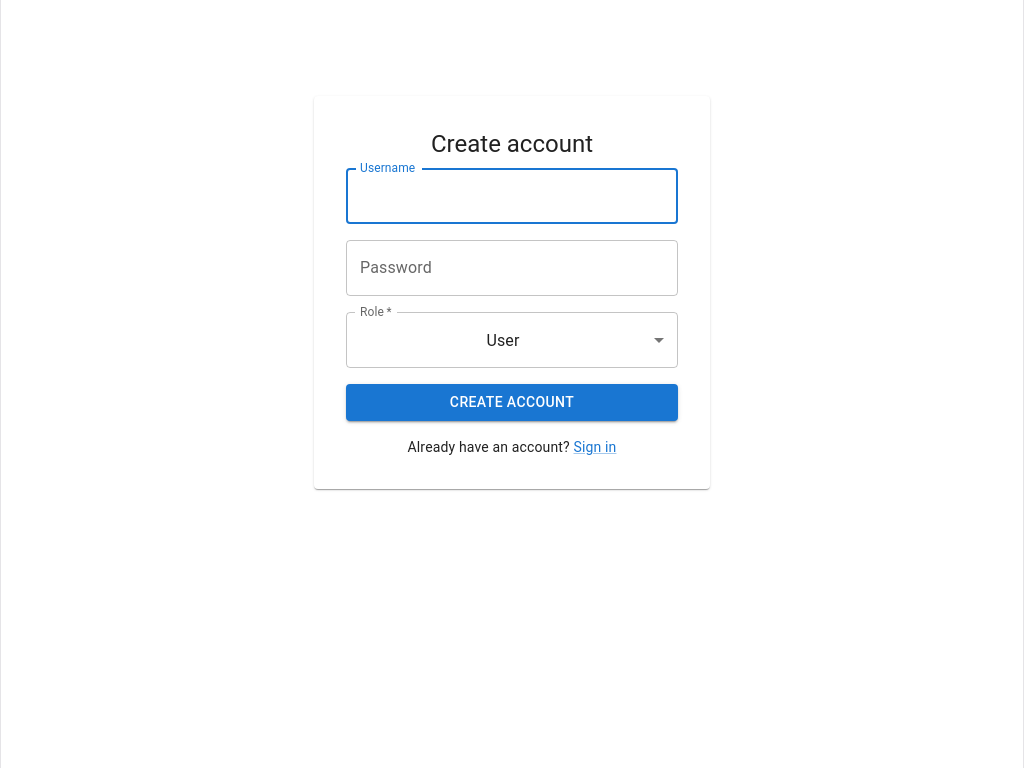
Test: RegisterPage › shows validation errors when submitting empty fields
The width and height of the screenshot is (1024, 768).
Click the button "Create account".
click(512, 403)  # box [346, 384, 678, 421]
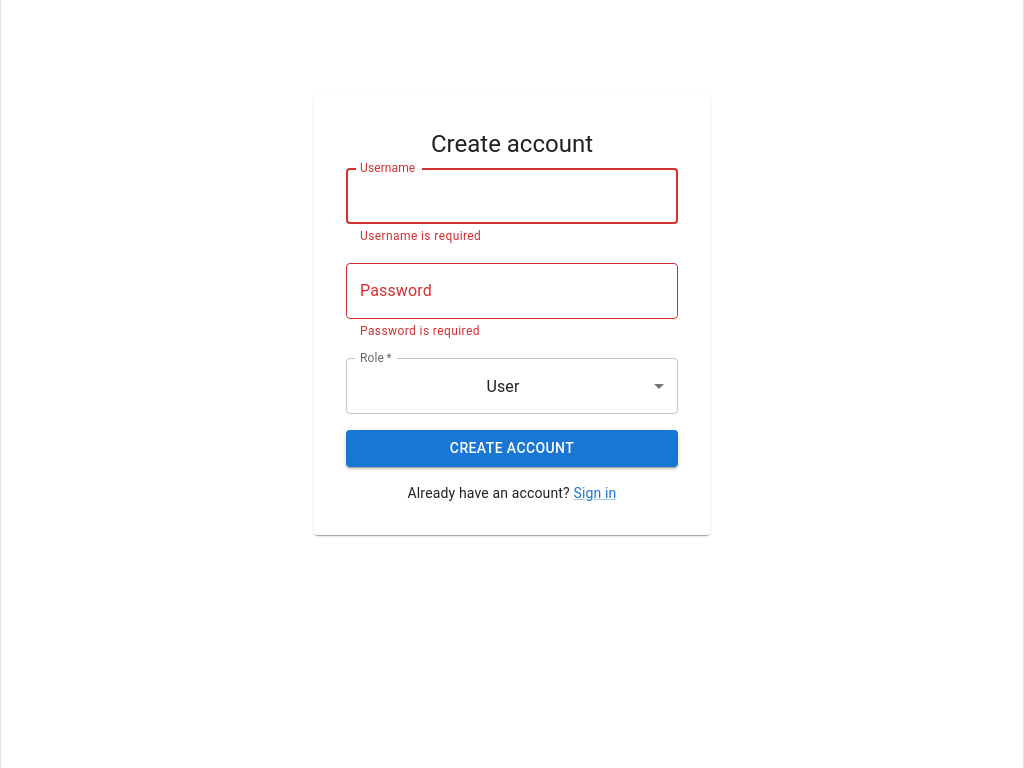
expect the text "Username is required" is shown: met, box [360, 229, 481, 243]
expect the text "Password is required" is shown: met, box [360, 324, 480, 338]
